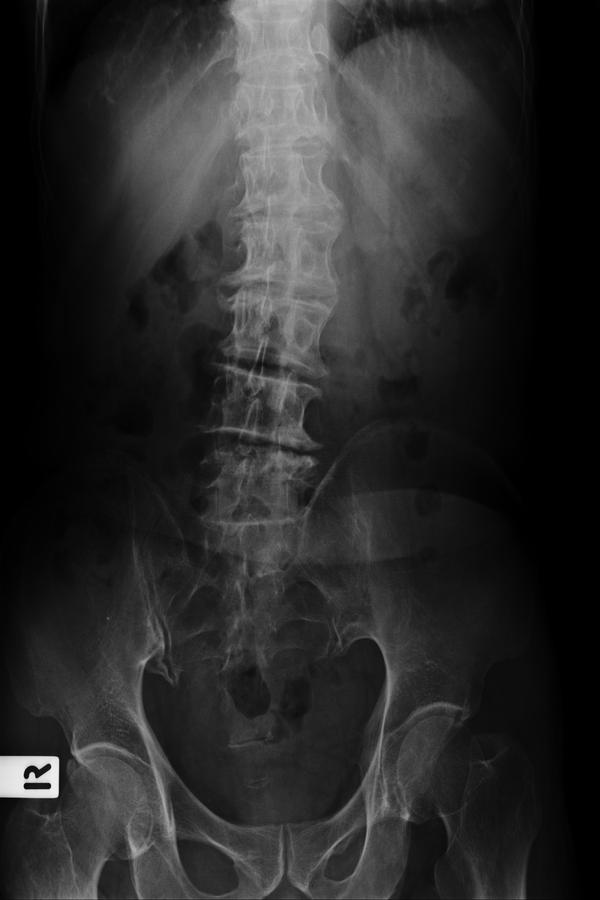lumbar scoliosis: (195, 5, 344, 576)
